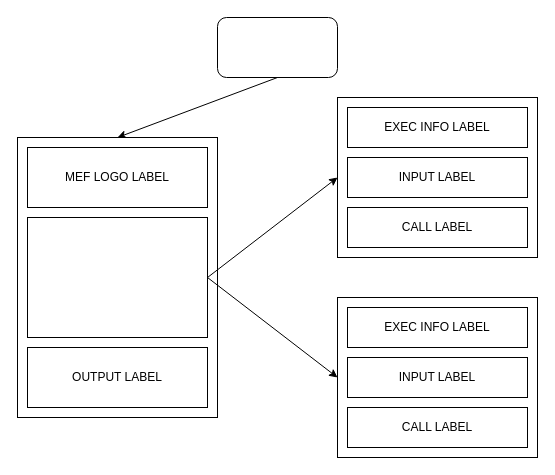
This 555x475 diagram has some shape labels left out. The centre of each missing label's shape, as x and y in pixels:
LOGIN: the point at 277,47
ONLINE & OFFLINE EXEC: the point at 117,277
